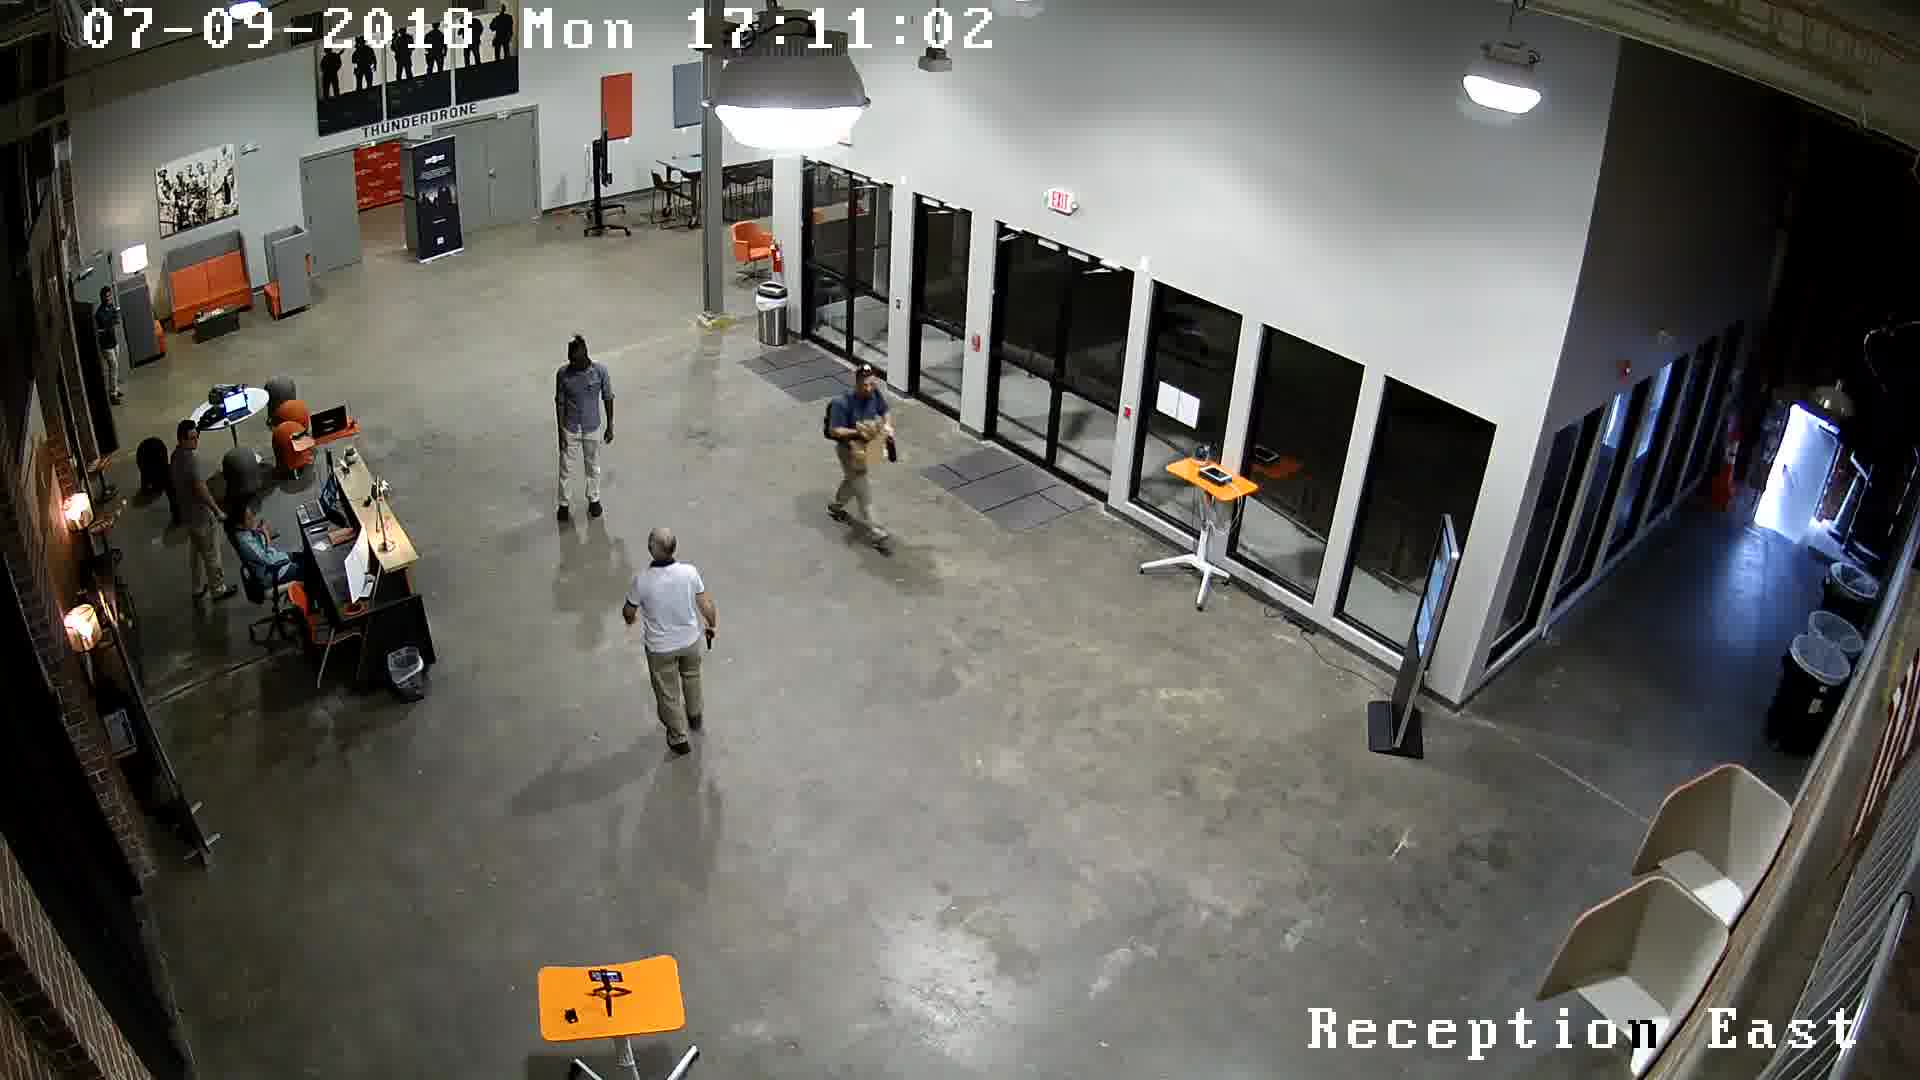pistol: (694, 615, 737, 667)
